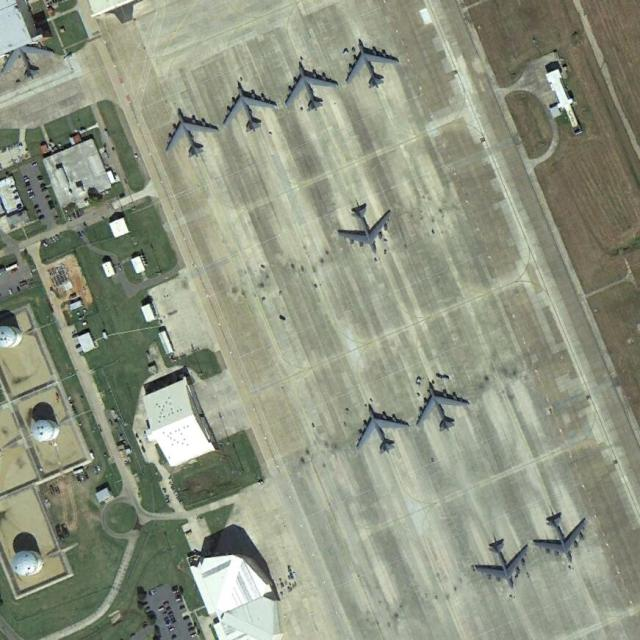fighter jet: (346, 37, 401, 90), (466, 542, 528, 587), (165, 103, 215, 155), (226, 82, 276, 134), (356, 404, 409, 450), (340, 204, 390, 252), (288, 64, 336, 111), (541, 514, 589, 560), (418, 390, 470, 429)
